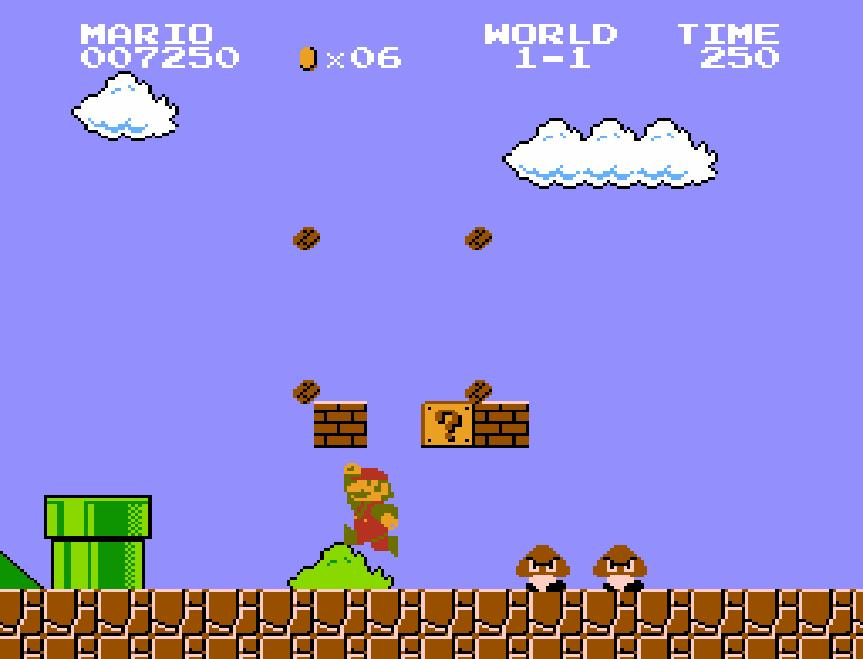big_mario: (342, 461, 400, 559)
